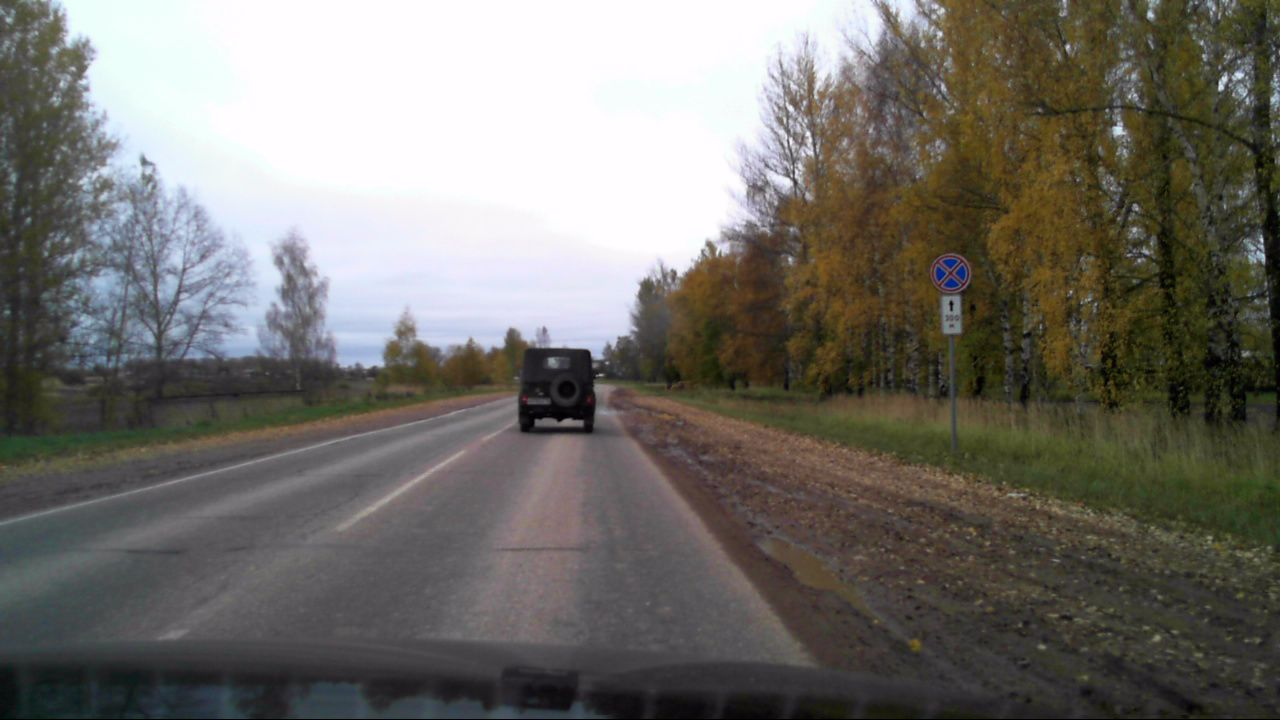No Parking: (930, 253, 970, 294)
